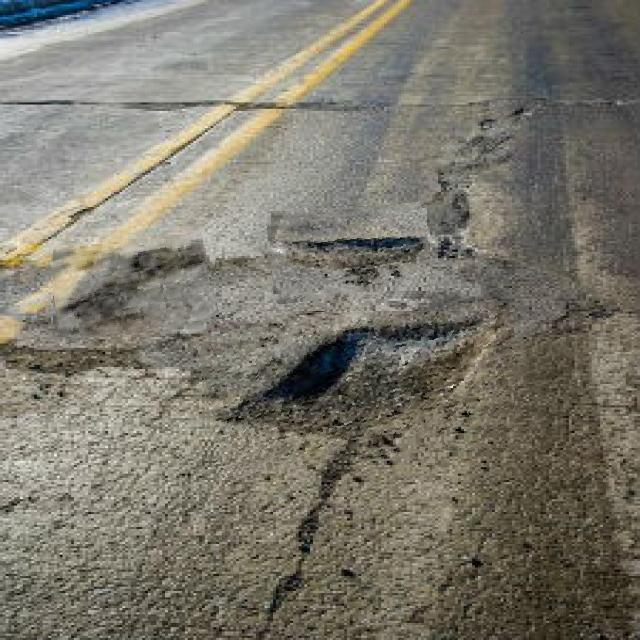Pothole: (201, 311, 514, 467), (53, 239, 216, 337), (268, 206, 430, 299)
